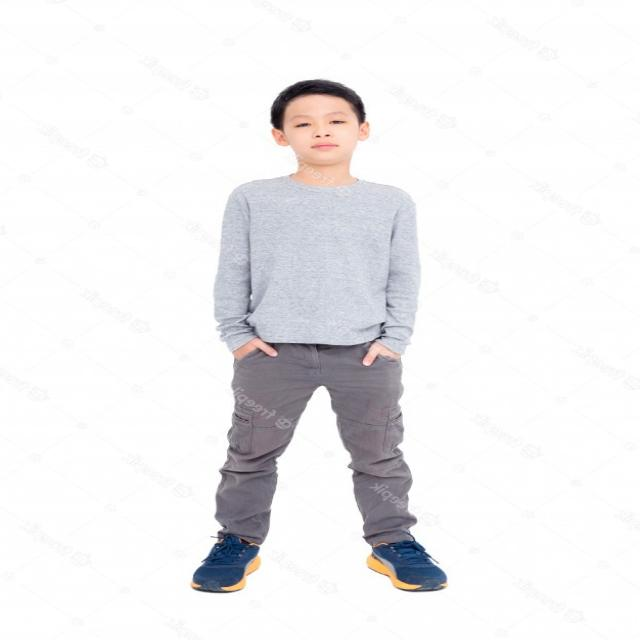child: (169, 79, 457, 603)
